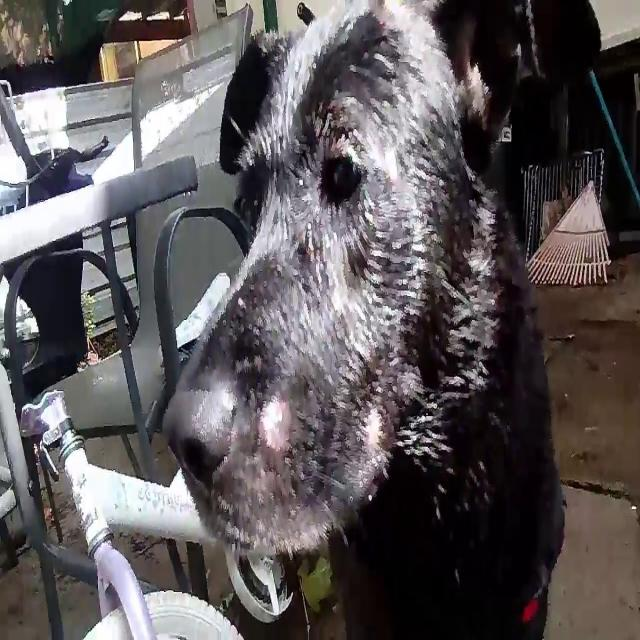fungal infection: (346, 376, 391, 472), (254, 387, 294, 455), (222, 329, 271, 382), (309, 114, 362, 158)
